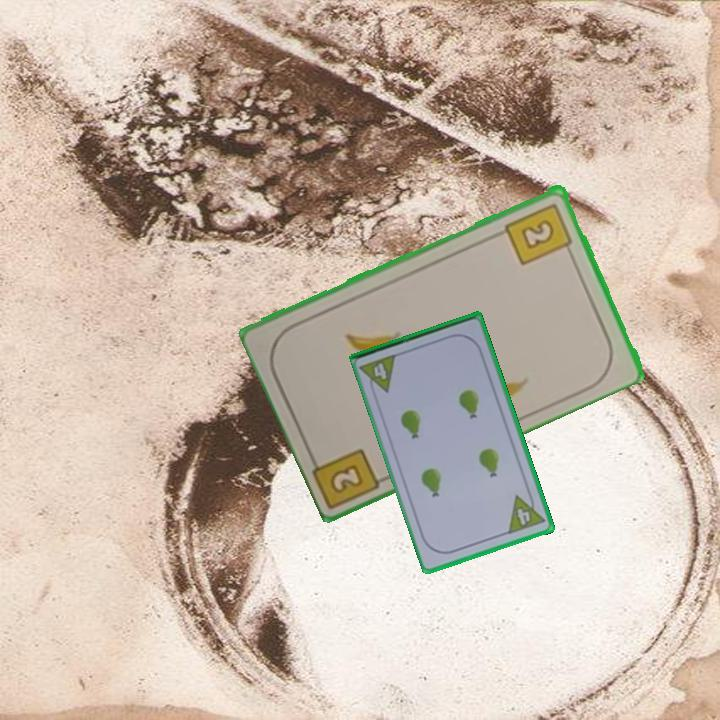2b: (502, 199, 576, 268), (326, 460, 367, 497)
4p: (505, 488, 548, 537), (357, 350, 400, 399)
